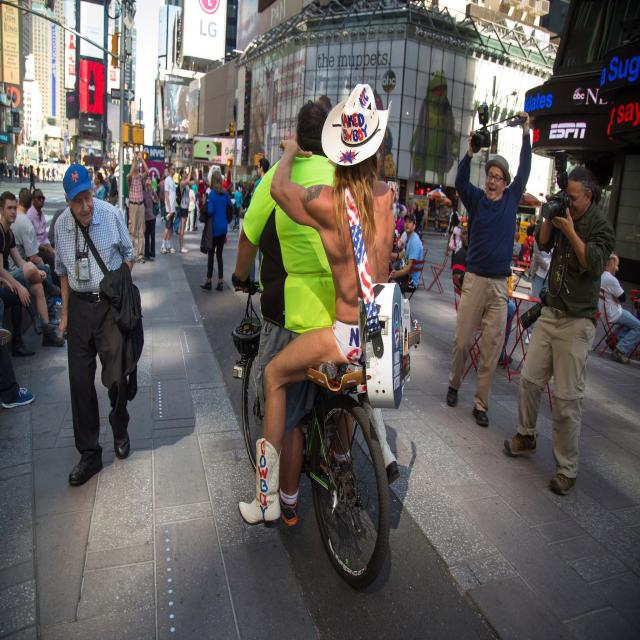body: (236, 91, 402, 529), (236, 83, 397, 531), (501, 144, 618, 498), (52, 160, 146, 490), (443, 102, 534, 429), (0, 191, 66, 349), (451, 222, 517, 365), (0, 185, 62, 332), (0, 296, 66, 407), (597, 252, 640, 366), (24, 187, 64, 308), (197, 168, 235, 292), (525, 236, 554, 344), (387, 212, 424, 296), (249, 157, 270, 292), (126, 150, 150, 264), (174, 164, 199, 255), (389, 188, 424, 240), (159, 162, 177, 255), (162, 84, 195, 131), (142, 178, 160, 261), (190, 161, 228, 191), (444, 205, 460, 258), (448, 218, 462, 269), (184, 182, 197, 234), (233, 184, 244, 232), (235, 167, 256, 192), (92, 171, 106, 201), (110, 166, 118, 207), (198, 169, 205, 211), (230, 192, 237, 232), (88, 167, 98, 195), (102, 164, 110, 197), (202, 179, 212, 205), (29, 165, 37, 193), (152, 174, 159, 196), (18, 163, 24, 183), (22, 164, 30, 179), (0, 159, 5, 181), (156, 173, 160, 200), (3, 157, 8, 178), (8, 160, 13, 180), (51, 166, 57, 182), (36, 165, 41, 181), (13, 163, 18, 179), (110, 158, 118, 168), (205, 143, 211, 156), (46, 167, 50, 181), (93, 165, 99, 173), (42, 168, 45, 182)
